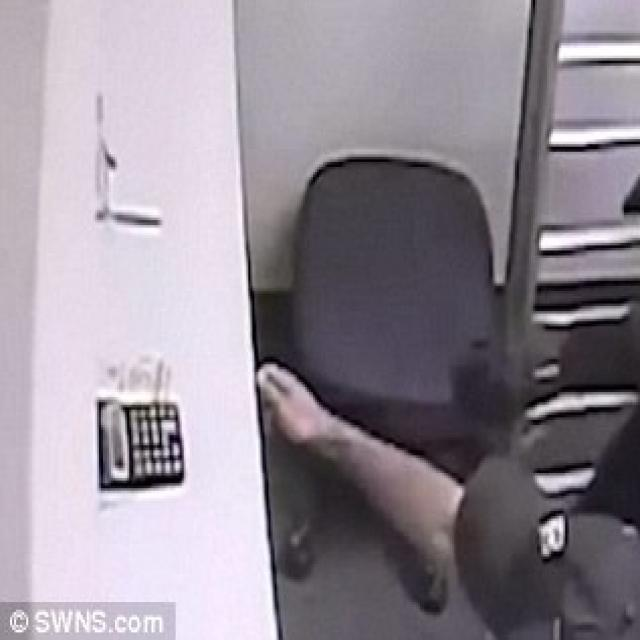Guns: (609, 60, 640, 215)
